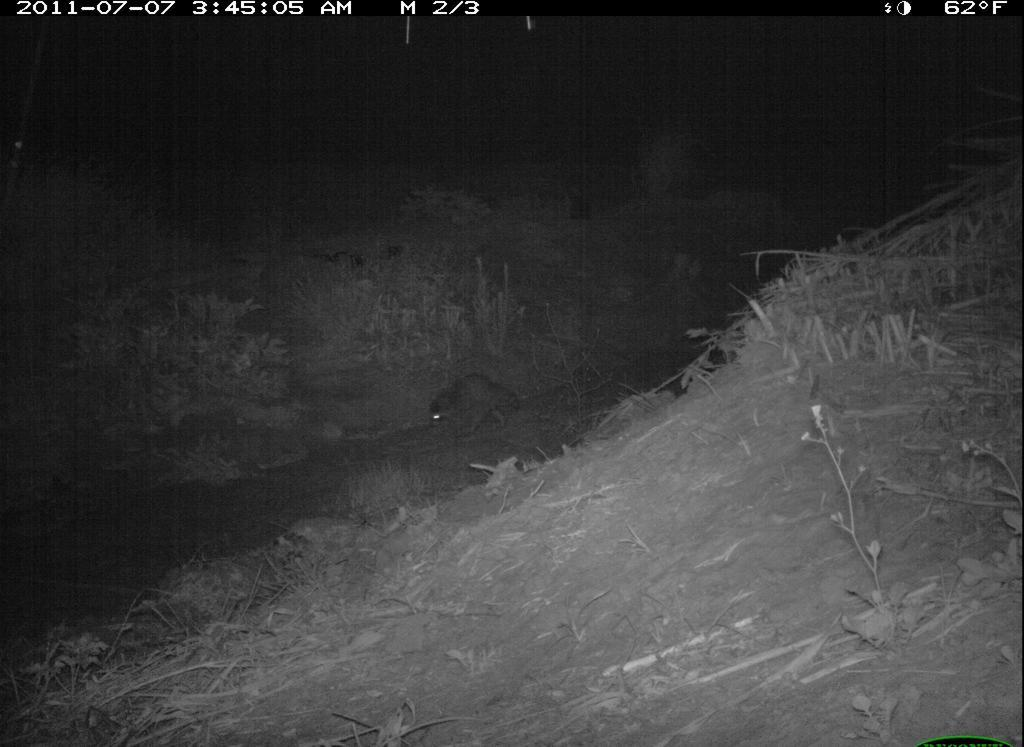raccoon: (424, 363, 530, 441)
